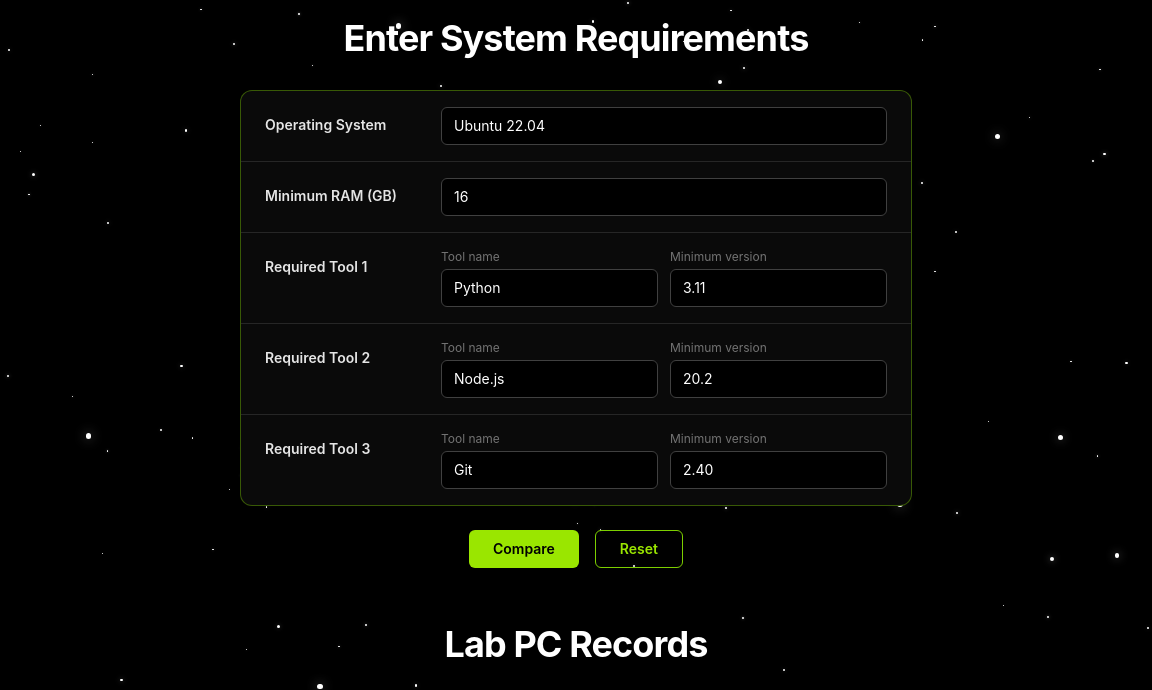
Scenario: App (Section 3: Comparison & Results) › Compare on the built-in data produces the exact fixture result, in PC input order
The width and height of the screenshot is (1152, 690).
Click the button "Compare".
click(524, 549)  # box top-left (469, 530), bottom-right (579, 568)
(page scrolled)
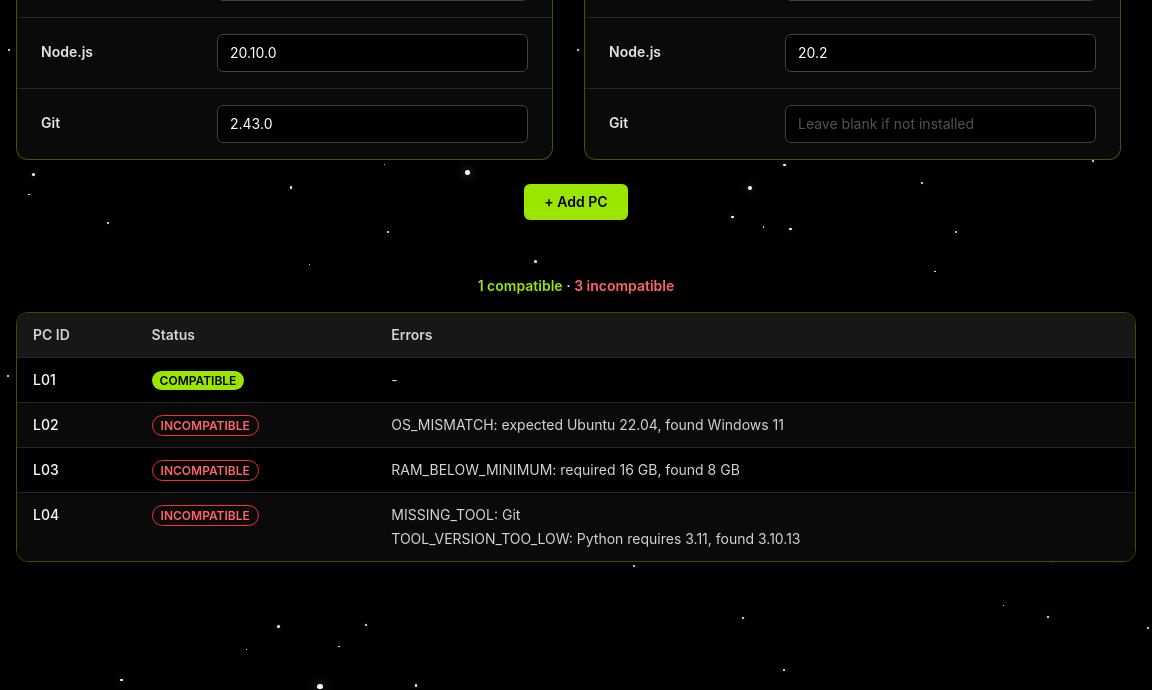
Now the text "1 compatible" is shown, box top-left (478, 277), bottom-right (563, 294)
Now the text "3 incompatible" is shown, box top-left (574, 277), bottom-right (674, 294)
Now the text "COMPATIBLE" is shown, box top-left (152, 371), bottom-right (244, 390)
